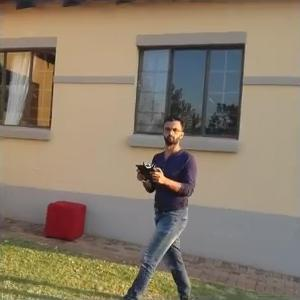follow: (118, 111, 199, 298)
